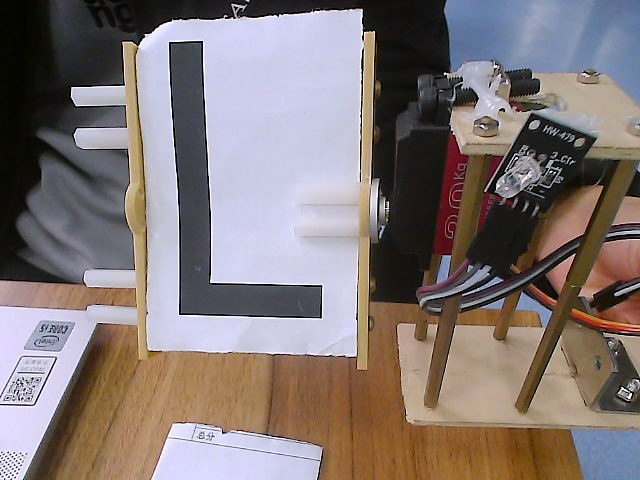L: (63, 9, 408, 372)
